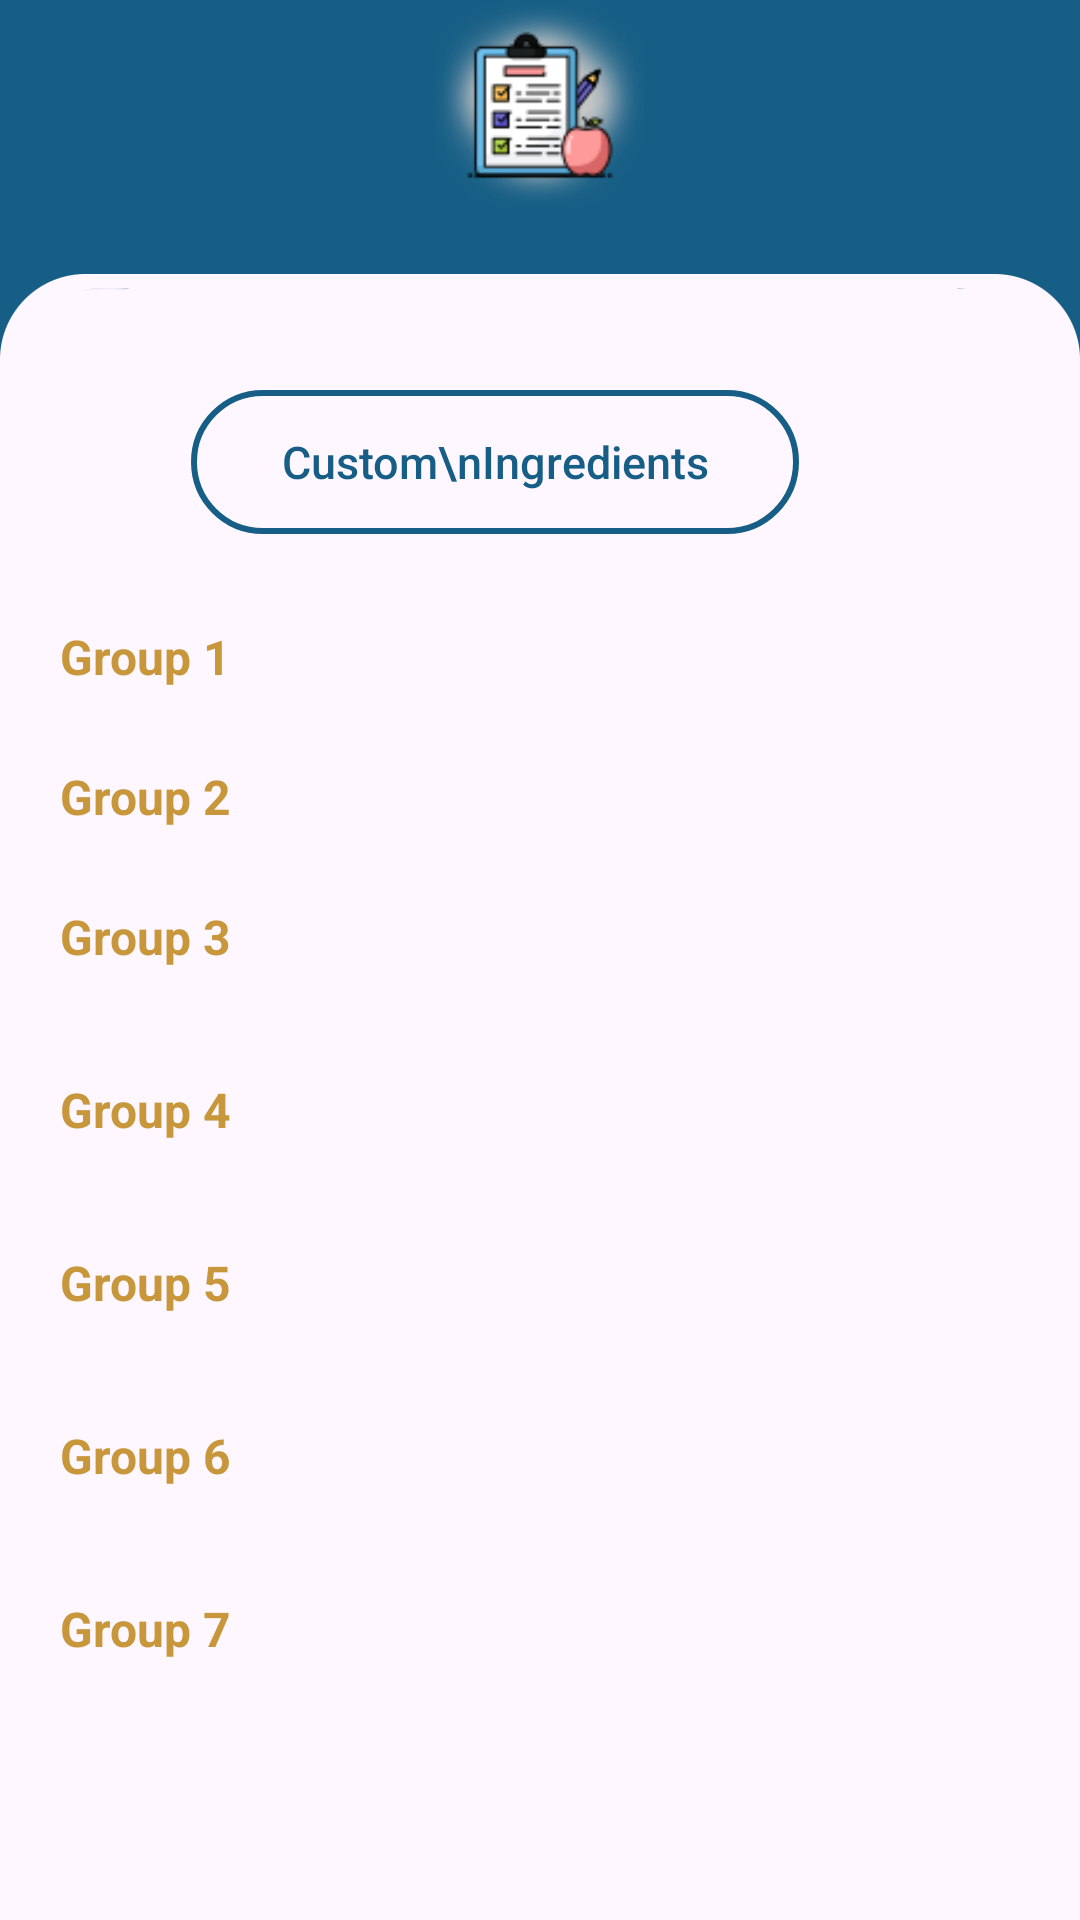

Locate icon controls on the screen. Image size 1080 x 1920, boxes as (x1, y1, x2, y2).
dietary: (449, 17, 630, 191)
